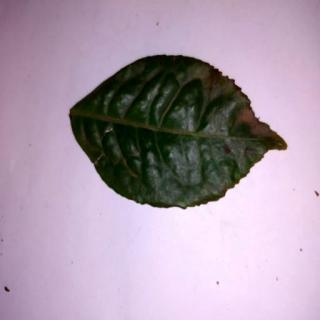Bird Eye Spot: (68, 56, 288, 211)
